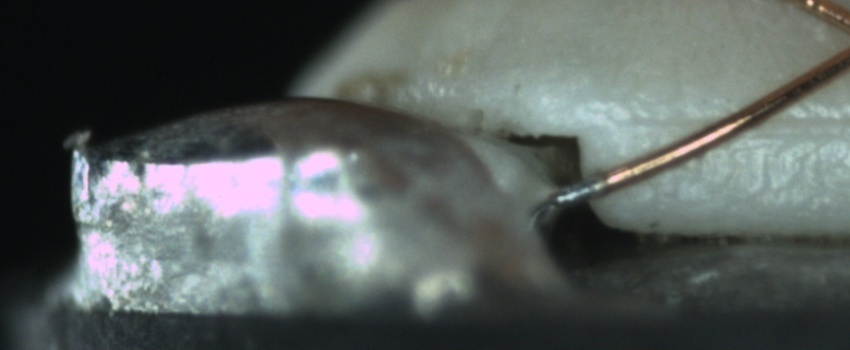DL: (629, 95, 849, 152)
TS: (553, 175, 605, 206)
